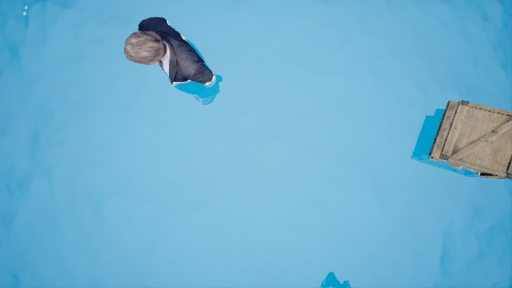person: (127, 14, 236, 113)
